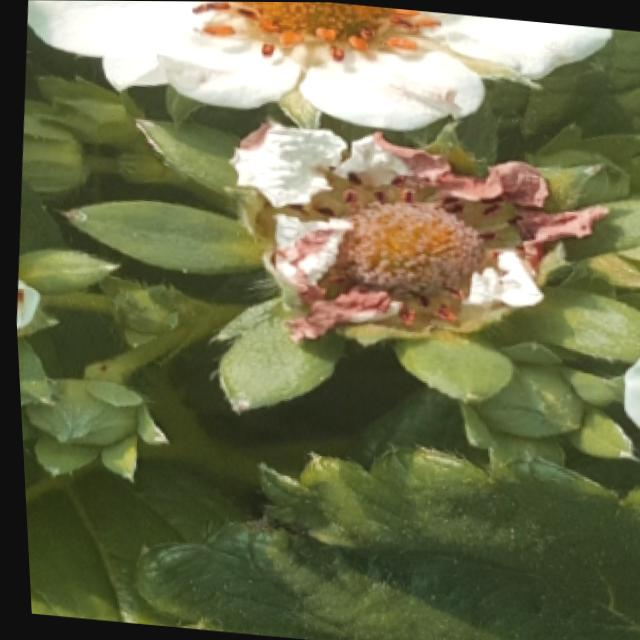Blossom Blight: (276, 161, 530, 329), (184, 1, 447, 66)
